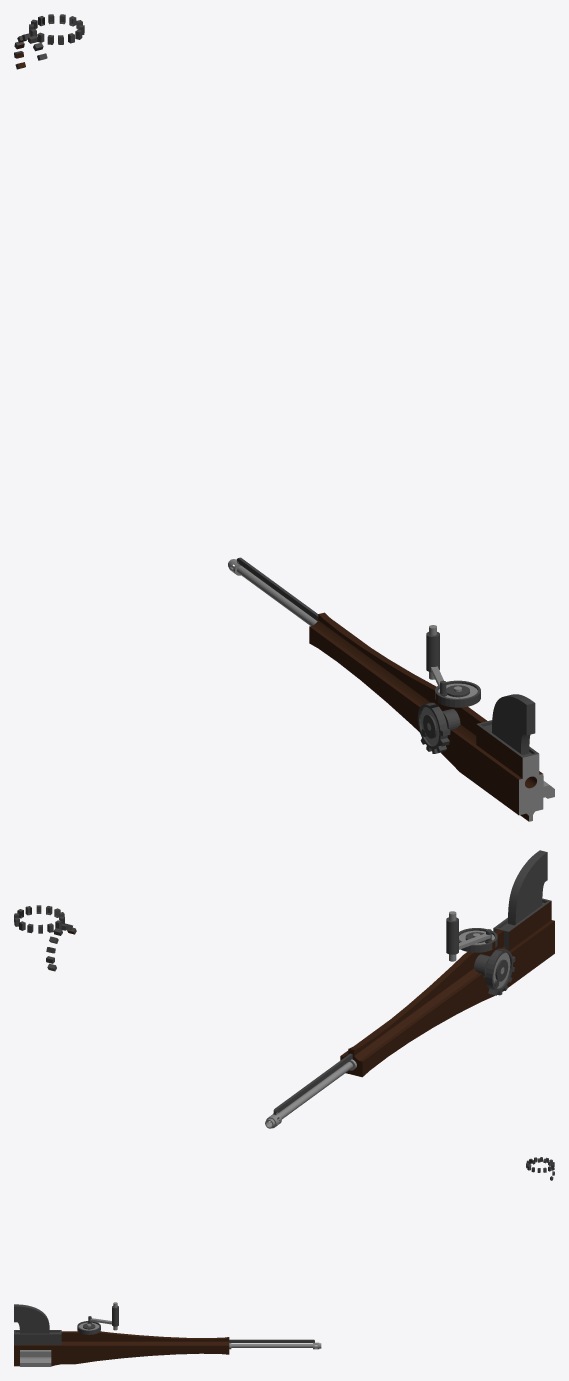
File: seven_mm_rifle.obj
3 views of the same model, one above another, from view 1: azimuth 30°, elevation 25°; view 2: azimuth 150°, elevation 25°; view 3: azimuth 270°, elevation 25° (orthographic). The views are drawn at different scales.
Parts seen in each view (by area): view 1: Mesh01, Group31, Mesh07, Mesh05; view 2: Mesh01, Group31, Mesh07, Mesh05; view 3: Mesh01, Group31, Mesh07, Mesh06.
Part boxes in pixels (left/top/right/bottom): Mesh01: left=228, top=557, right=543, bottom=821; Group31: left=492, top=694, right=535, bottom=754; Mesh07: left=426, top=625, right=480, bottom=707; Mesh05: left=417, top=702, right=460, bottom=749; Mesh01: left=265, top=898, right=554, bottom=1128; Group31: left=508, top=850, right=547, bottom=925; Mesh07: left=446, top=911, right=497, bottom=961; Mesh05: left=473, top=948, right=513, bottom=991; Mesh01: left=14, top=1330, right=321, bottom=1366; Group31: left=14, top=1304, right=49, bottom=1333; Mesh07: left=77, top=1302, right=118, bottom=1334; Mesh06: left=20, top=1350, right=51, bottom=1366.
Size of what is drawn, in the model's own units: 0.4213 by 1.85 by 4.27.
